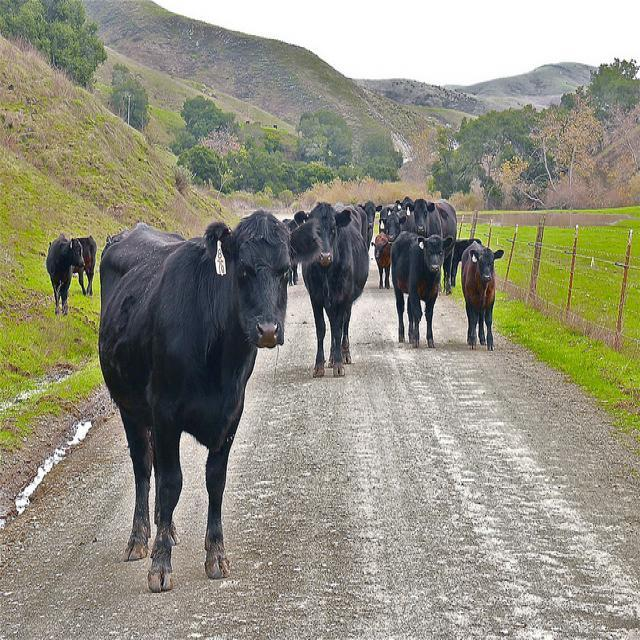cow: (94, 208, 289, 593), (293, 202, 369, 375), (390, 228, 455, 347), (401, 195, 455, 290), (460, 240, 503, 349), (45, 234, 83, 315), (287, 218, 320, 284), (74, 234, 96, 293), (369, 230, 391, 288), (357, 199, 380, 251), (378, 213, 416, 240), (394, 199, 410, 214), (385, 203, 395, 214)
